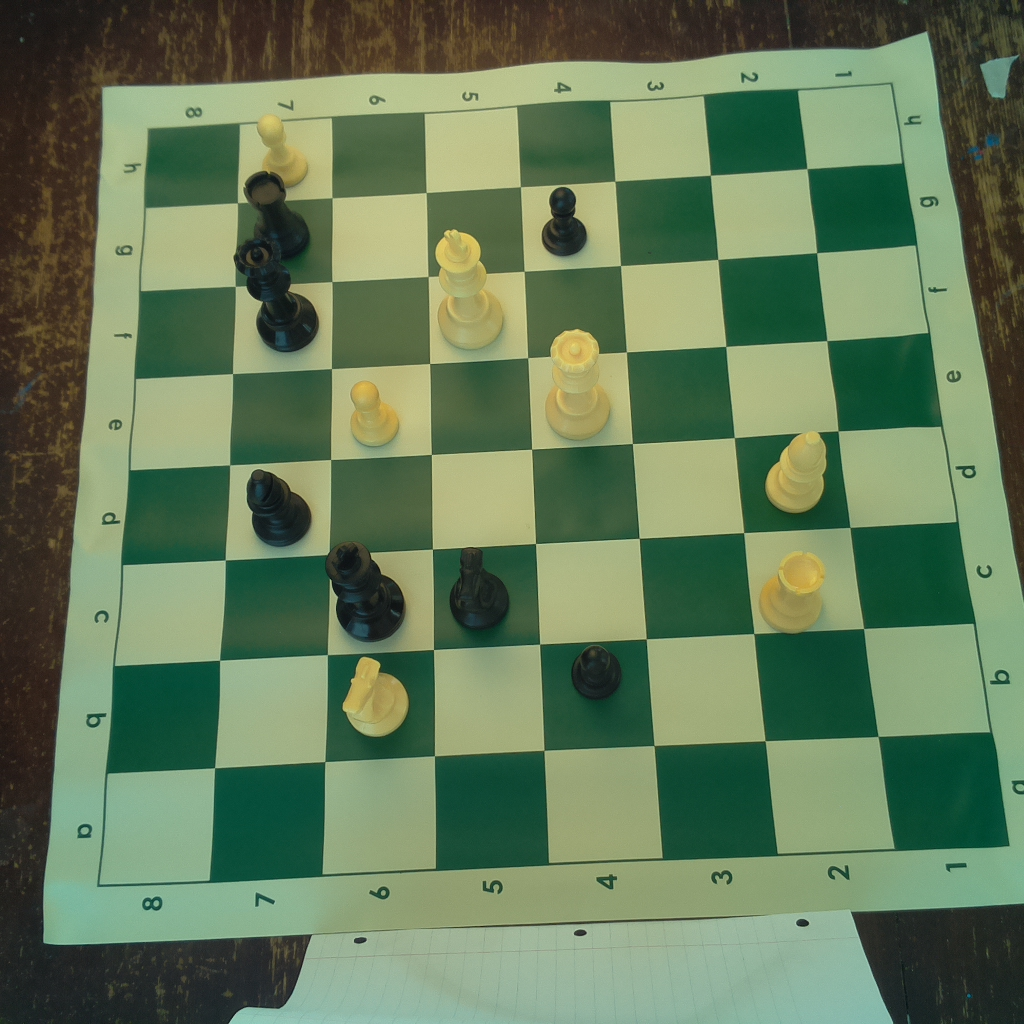black_bishop: (244, 464, 316, 547)
black_king: (319, 539, 406, 641)
black_knight: (441, 539, 512, 635)
black_pawn: (532, 183, 597, 257), (571, 639, 627, 701)
black_queen: (225, 230, 321, 354)
black_rook: (238, 173, 316, 258)
file_a: (99, 731, 1014, 887)
file_b: (105, 623, 994, 773)
file_c: (116, 523, 975, 664)
file_d: (121, 427, 959, 567)
file_e: (129, 332, 940, 473)
file_f: (134, 244, 934, 378)
file_g: (142, 165, 915, 292)
file_h: (146, 84, 903, 210)
outline: (98, 83, 1010, 886)
rank_1: (801, 82, 1010, 851)
rank_2: (703, 86, 897, 854)
rank_3: (611, 96, 780, 861)
rank_4: (518, 100, 666, 866)
rank_5: (424, 104, 551, 871)
rank_6: (321, 113, 438, 871)
rank_7: (210, 119, 333, 886)
rank_8: (96, 123, 242, 890)
white_bishop: (763, 428, 829, 514)
white_king: (428, 223, 508, 348)
white_knight: (334, 654, 415, 741)
white_pawn: (253, 110, 311, 190), (342, 377, 402, 449)
white_queen: (536, 325, 618, 440)
white_rook: (757, 545, 833, 632)
